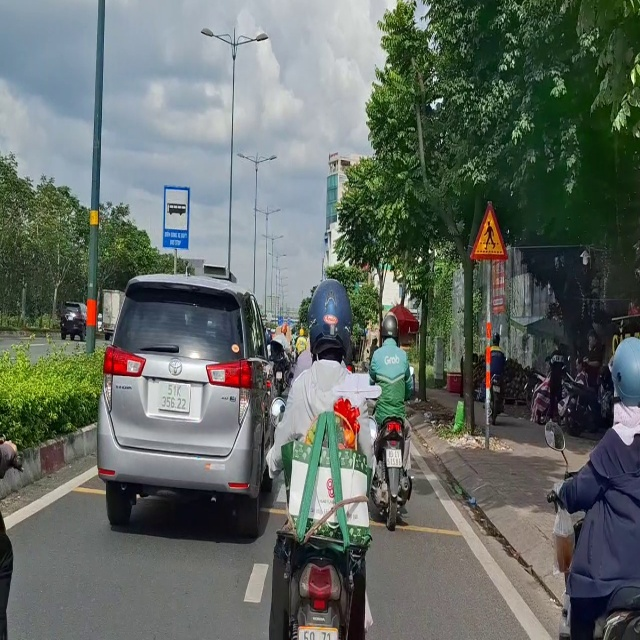nguoi qua duong: (457, 191, 516, 271)
